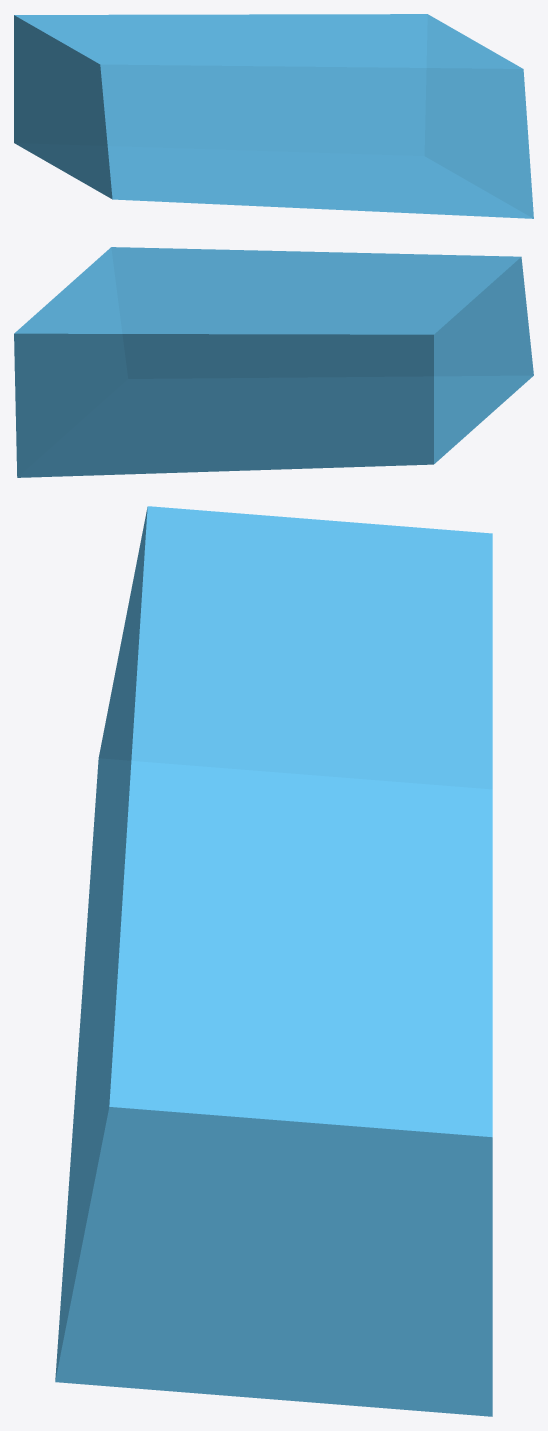
The model's file is Event_420094457_HErechit_72.fbx.
The picture shows the model from 3 angles, top to bottom: view 1: azimuth 30°, elevation 25°; view 2: azimuth 150°, elevation 25°; view 3: azimuth 270°, elevation 25°; orthographic projection. The views are drawn at different scales.
Visible parts, largest first — view 1: Model; view 2: Model; view 3: Model.
Part boxes in pixels (x1=…): Model: x1=14, y1=14, x2=533, y2=218; Model: x1=14, y1=247, x2=533, y2=477; Model: x1=55, y1=506, x2=492, y2=1416.
Bounding box in the file's own units: 1.23 × 0.7242 × 0.5632.
